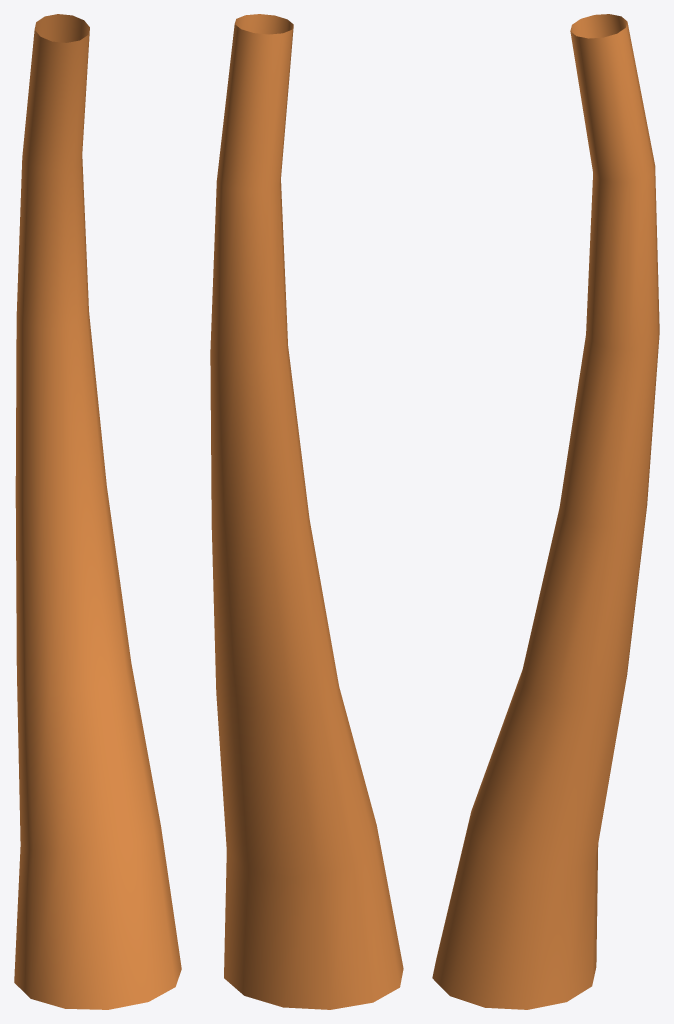
File: TreeTrunk_17.fbx
3 views of the same model, side by side, from view 1: azimuth 30°, elevation 25°; view 2: azimuth 150°, elevation 25°; view 3: azimuth 270°, elevation 25° (orthographic). The views are drawn at different scales.
Parts seen in each view (by area): view 1: TreeTrunk_17; view 2: TreeTrunk_17; view 3: TreeTrunk_17.
Boxes of the visible parts, x1,y1,x2,y2 form: TreeTrunk_17: (14,14,181,1009); TreeTrunk_17: (210,14,403,1009); TreeTrunk_17: (432,14,659,1009).
Bounding box in the file's own units: 60.46 × 359 × 77.66.
